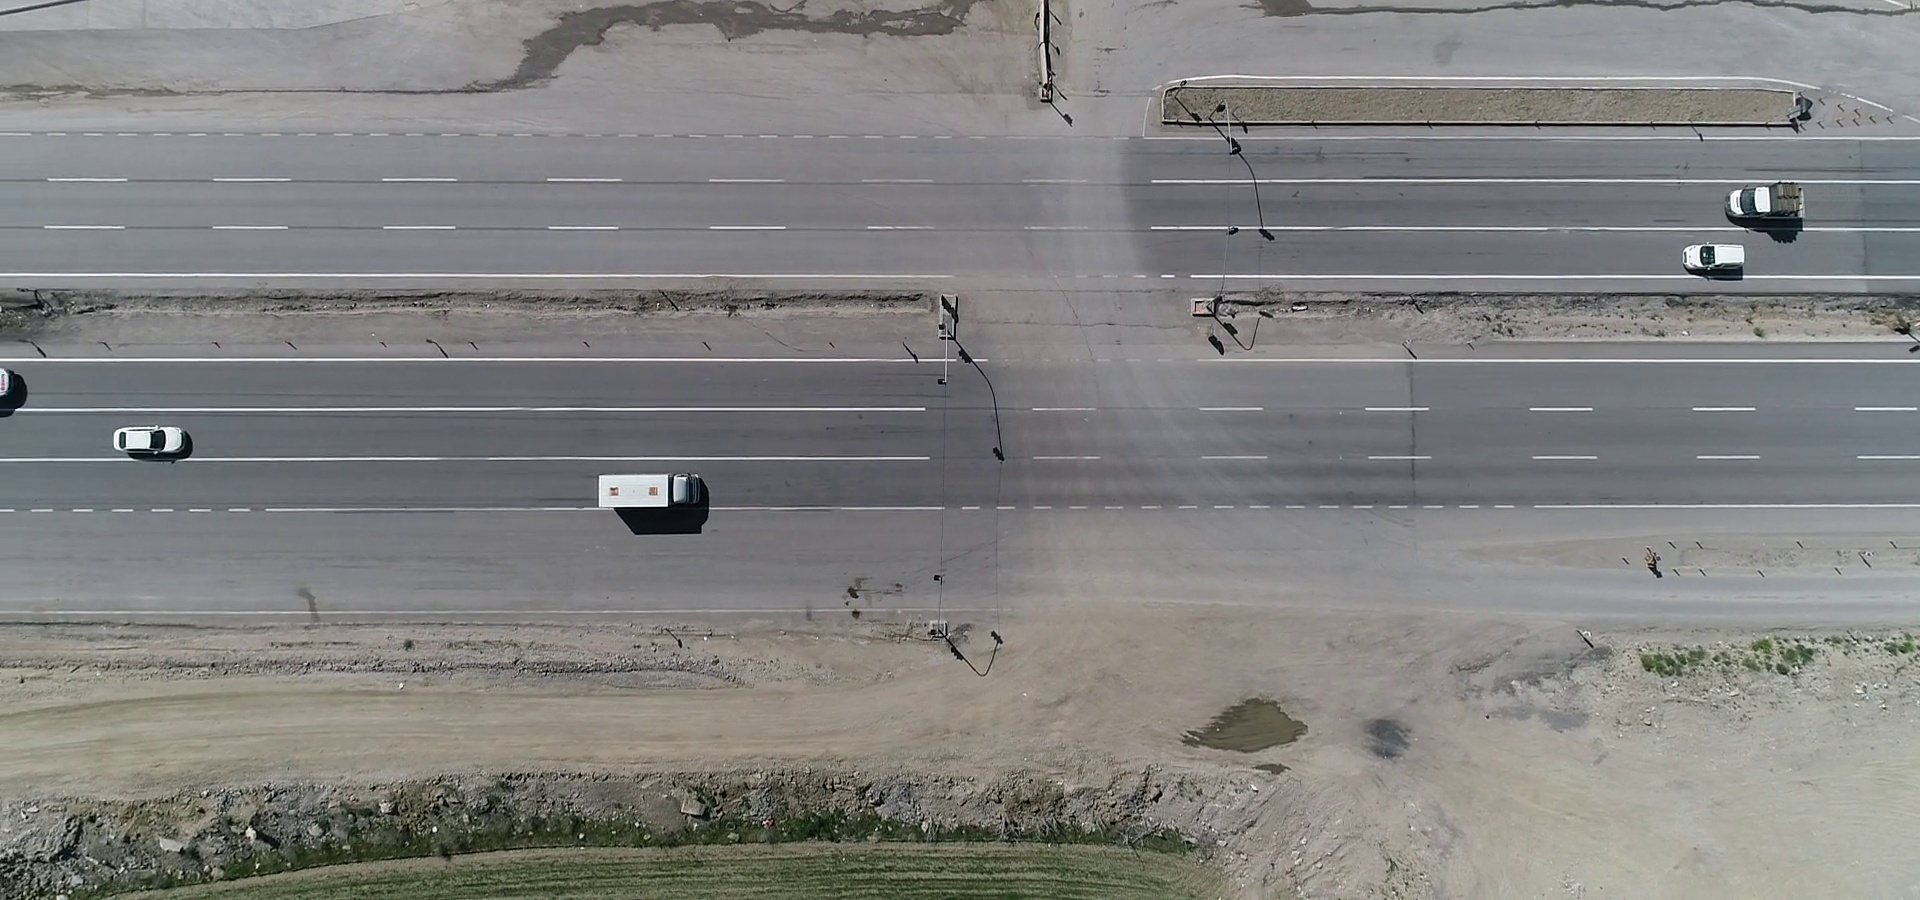arac: (589, 470, 710, 522), (1730, 174, 1805, 233), (98, 421, 193, 465), (1675, 238, 1750, 280)
